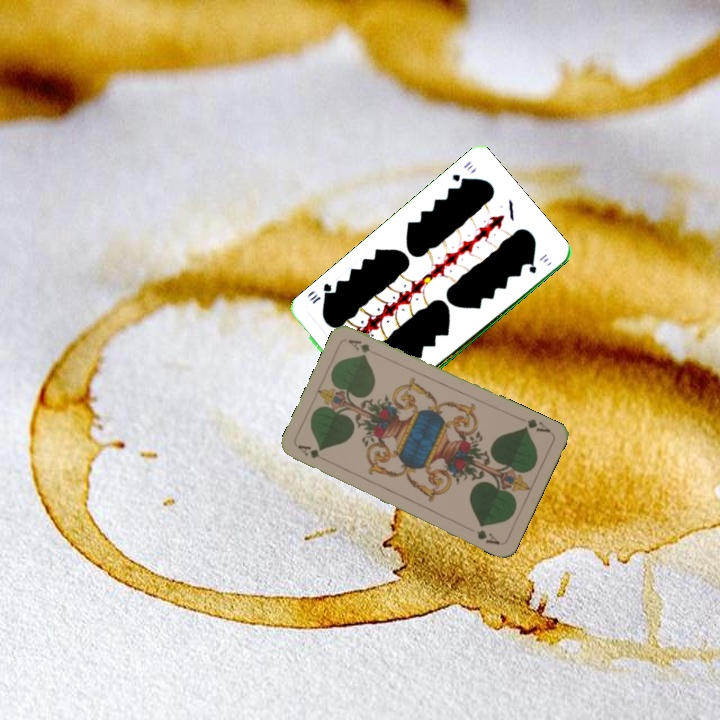G10: (448, 157, 475, 187)
GA: (294, 441, 331, 465), (520, 414, 553, 435)
